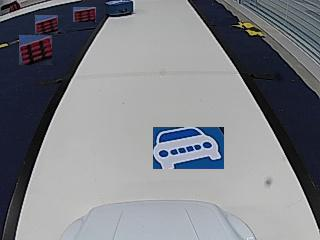prop: (106, 1, 133, 17)
